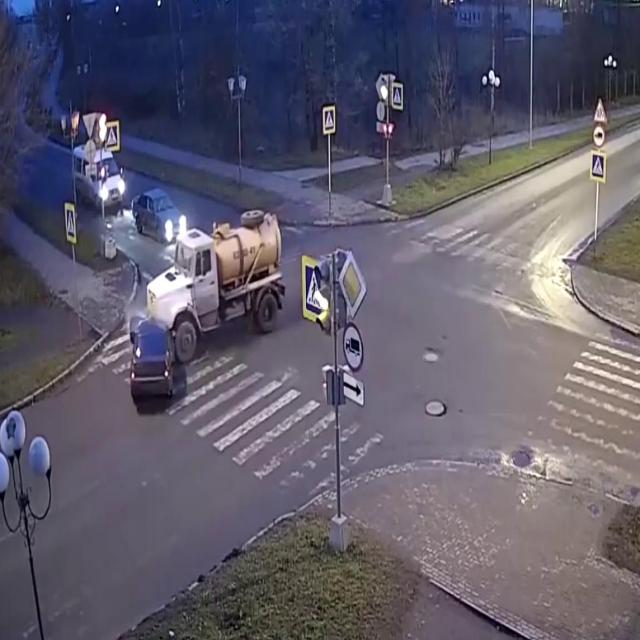accident: (114, 199, 289, 431)
